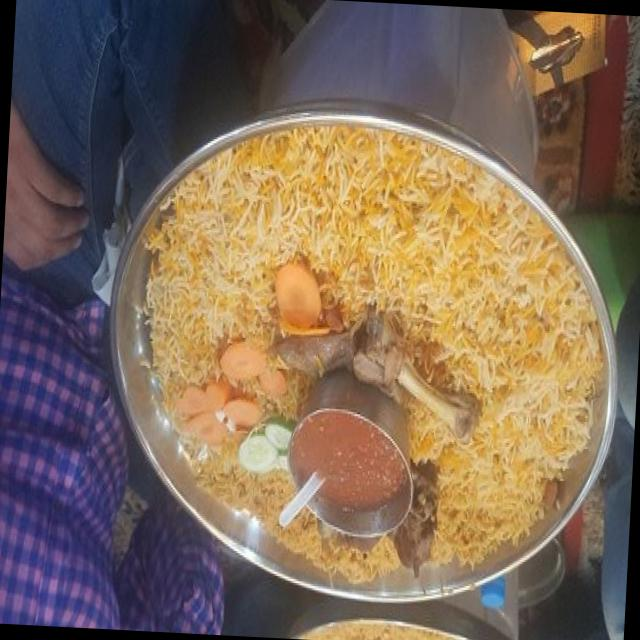Biryani: (124, 110, 614, 608)
